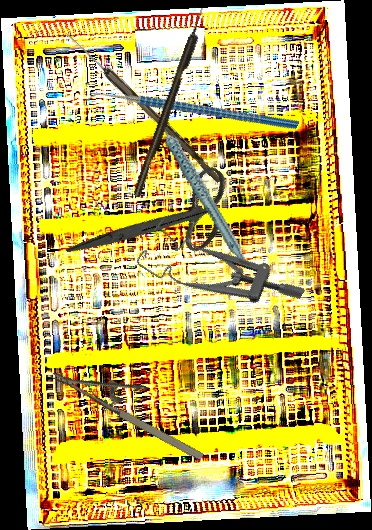Chopper: (82, 28, 300, 199)
Handpiece: (156, 101, 247, 272)
Hook Surgical: (131, 7, 209, 198)
Iris Scissors: (65, 127, 249, 318)
Needle Holder: (50, 341, 219, 466)
Speculum: (133, 203, 307, 348)
Surgical Spoon: (61, 29, 226, 184)
